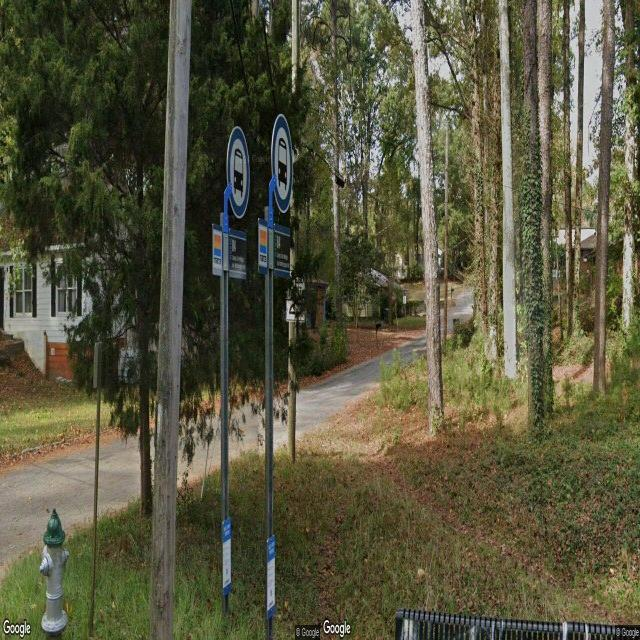seating: (394, 604, 640, 640)
